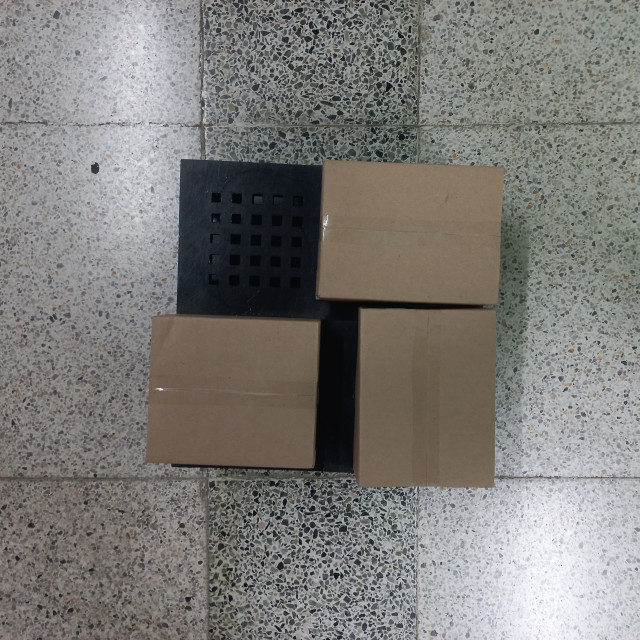box: (142, 310, 321, 475), (314, 155, 503, 310), (352, 305, 499, 493), (169, 187, 326, 322), (334, 316, 481, 460), (150, 345, 334, 454)
